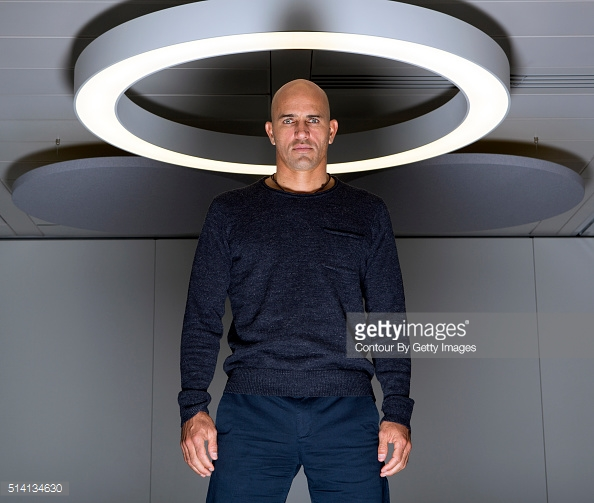em pe: (188, 56, 425, 503)
